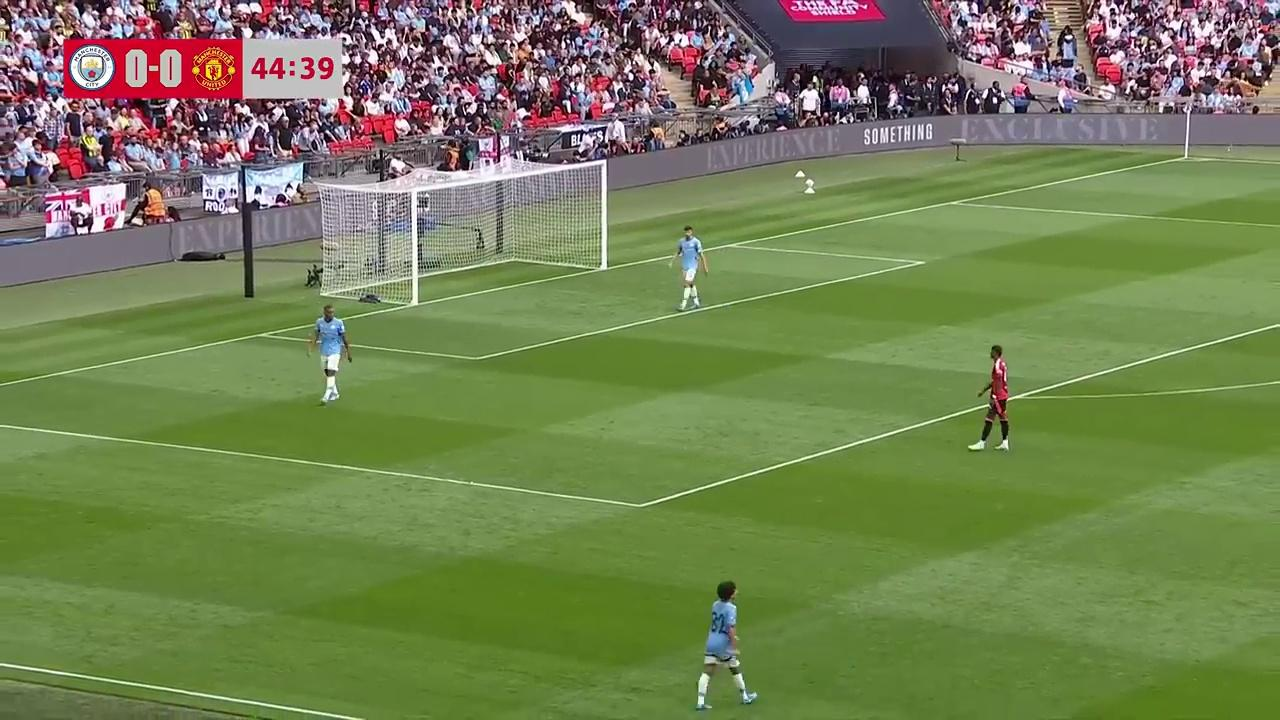player: (697, 581, 756, 707), (976, 341, 1011, 453), (310, 301, 343, 405), (671, 226, 708, 317)
